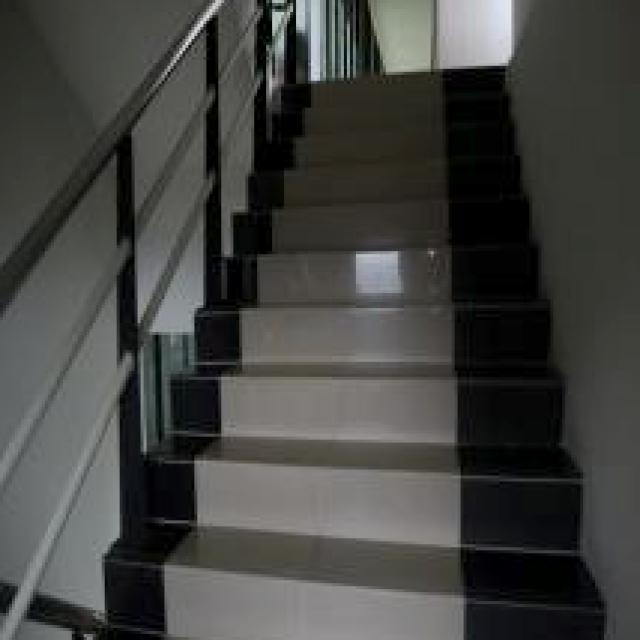upstair: (250, 106, 522, 596)
